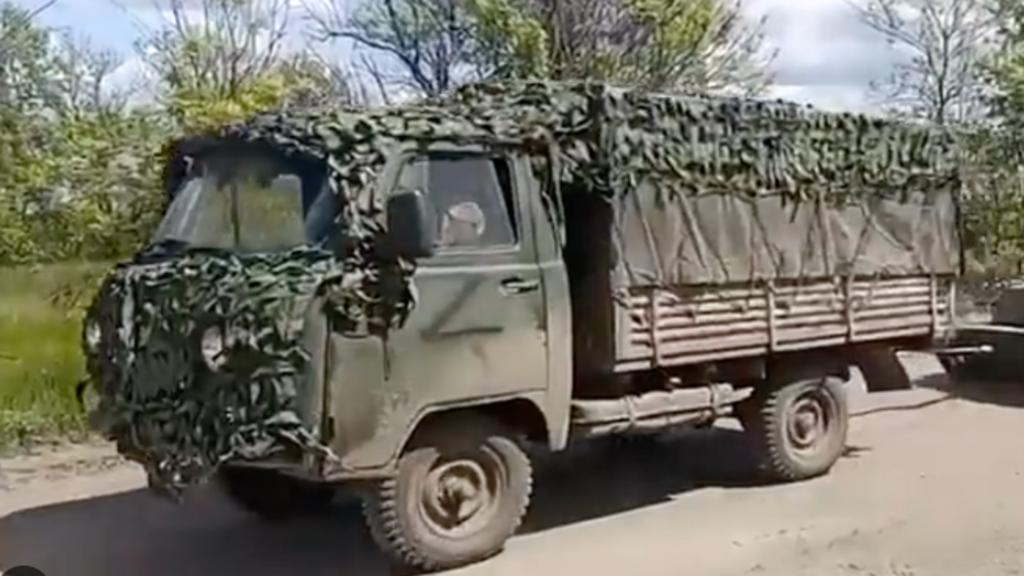CAR: (85, 68, 951, 575)
